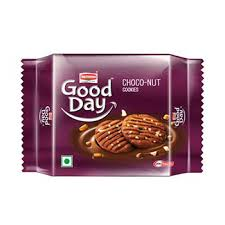gooday-mediuml-choco: (21, 54, 206, 178)
